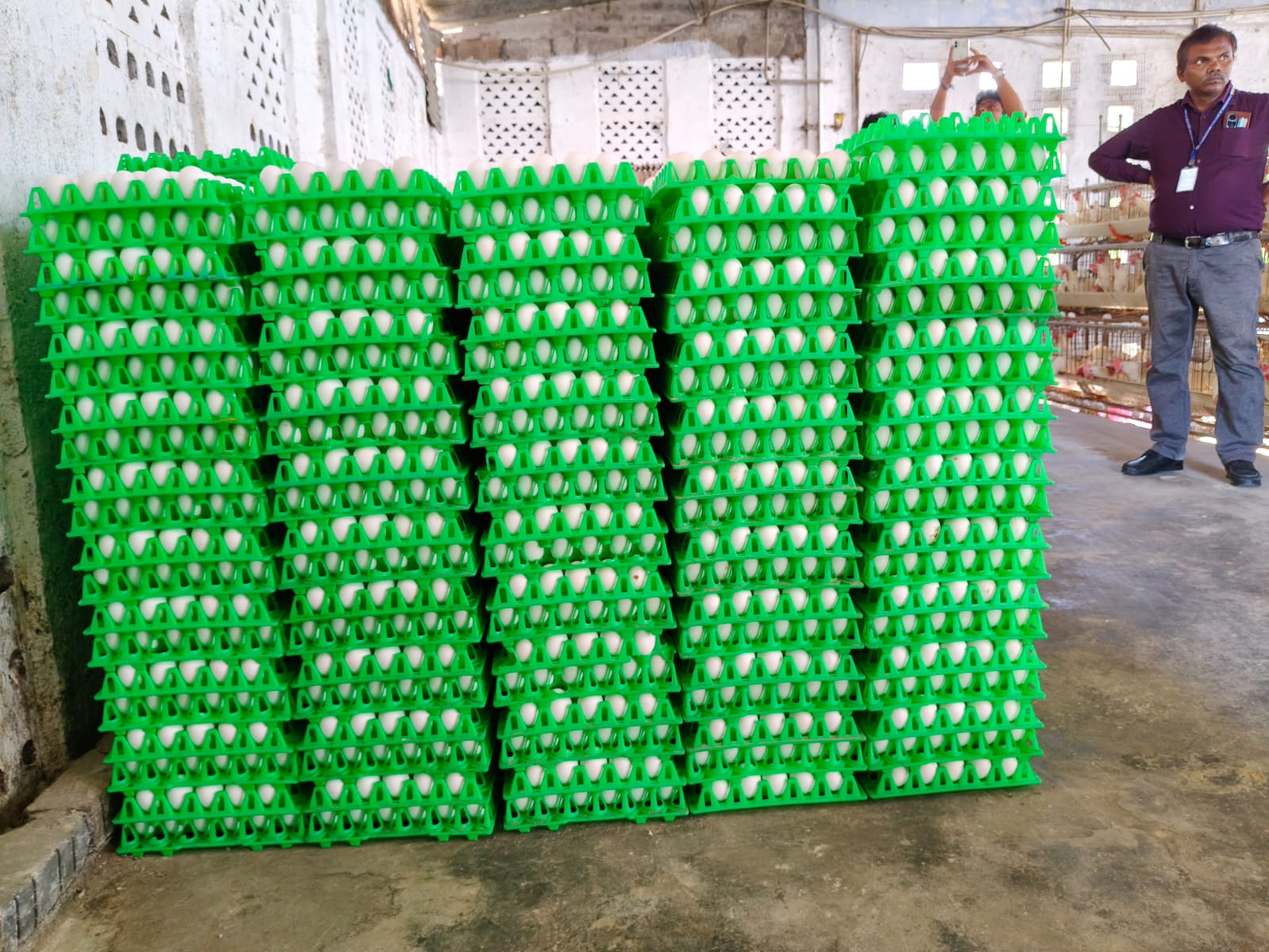egg_tray: (314, 803, 497, 846), (663, 140, 859, 180), (452, 230, 658, 268), (665, 224, 865, 260), (863, 479, 1063, 515), (298, 729, 492, 766), (470, 263, 652, 302), (884, 307, 1049, 350), (38, 249, 240, 284), (669, 484, 862, 520), (489, 429, 662, 468), (274, 337, 459, 373), (498, 714, 681, 750), (52, 383, 240, 418), (29, 209, 238, 240), (876, 143, 1060, 178), (470, 156, 642, 193), (270, 403, 451, 438), (54, 318, 234, 353), (300, 535, 465, 573), (885, 754, 1041, 794), (33, 171, 233, 202), (135, 808, 298, 846), (51, 351, 233, 385), (517, 749, 673, 788), (263, 307, 459, 338), (687, 180, 842, 219), (880, 340, 1049, 374), (270, 372, 444, 405), (487, 467, 666, 499), (874, 603, 1051, 635), (511, 689, 680, 722), (82, 561, 281, 589), (681, 364, 855, 396), (682, 454, 841, 489), (254, 207, 445, 236), (57, 492, 270, 518), (496, 652, 673, 683), (880, 513, 1051, 545), (447, 200, 657, 226), (677, 618, 871, 646), (314, 703, 460, 740), (682, 394, 861, 424), (504, 787, 688, 816), (872, 454, 1049, 484), (41, 284, 244, 310), (674, 556, 869, 583), (876, 421, 1051, 451), (87, 527, 268, 556), (68, 421, 254, 449), (872, 638, 1040, 669), (260, 240, 433, 270), (463, 340, 661, 366), (887, 243, 1058, 273), (481, 533, 678, 559), (79, 453, 252, 482), (884, 384, 1050, 414), (265, 476, 464, 501), (693, 422, 839, 456), (879, 184, 1056, 212), (466, 308, 630, 338), (872, 545, 1041, 574), (880, 288, 1055, 316), (119, 714, 287, 743), (671, 291, 858, 317), (871, 670, 1056, 696), (492, 499, 663, 527), (712, 773, 852, 807), (471, 407, 661, 432), (284, 440, 442, 470), (117, 778, 286, 806), (482, 372, 639, 402), (665, 329, 853, 354), (108, 652, 280, 679), (254, 170, 444, 194), (289, 616, 487, 639), (308, 638, 483, 664), (492, 594, 667, 620), (89, 595, 268, 620), (100, 629, 284, 653), (688, 651, 872, 675), (673, 259, 855, 283), (720, 702, 860, 733), (106, 695, 299, 717), (695, 524, 850, 551), (306, 676, 493, 698), (879, 579, 1050, 603), (301, 575, 442, 604), (332, 771, 473, 800), (263, 278, 440, 301), (879, 221, 1056, 244), (122, 752, 291, 776), (688, 733, 872, 755), (701, 594, 872, 617), (885, 702, 1054, 725), (293, 514, 454, 538), (887, 733, 1034, 759), (512, 630, 657, 656), (504, 570, 674, 592), (693, 681, 867, 698)
